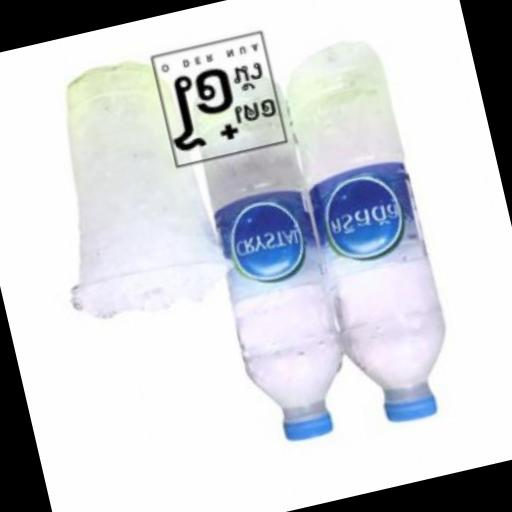Coca: (268, 28, 476, 444), (176, 68, 370, 460)
